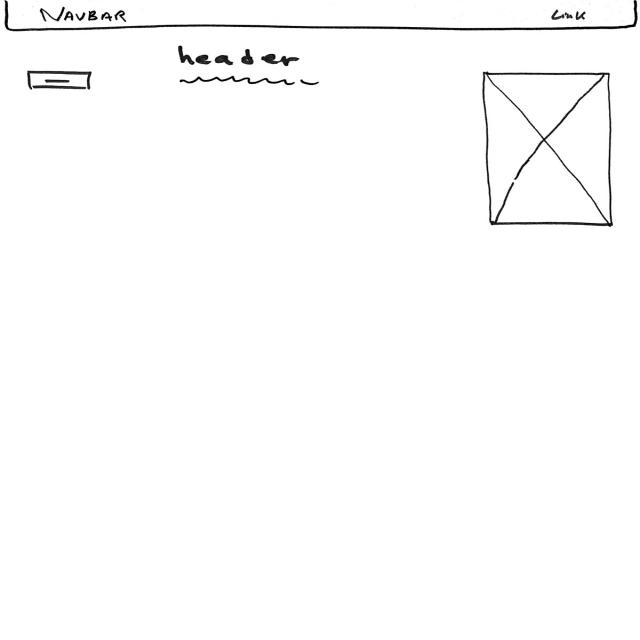container: (2, 1, 640, 33)
icon-button: (25, 70, 96, 91)
image: (479, 70, 619, 230)
label: (173, 46, 303, 69), (38, 8, 130, 24), (549, 10, 591, 22)
text: (181, 77, 321, 88)
